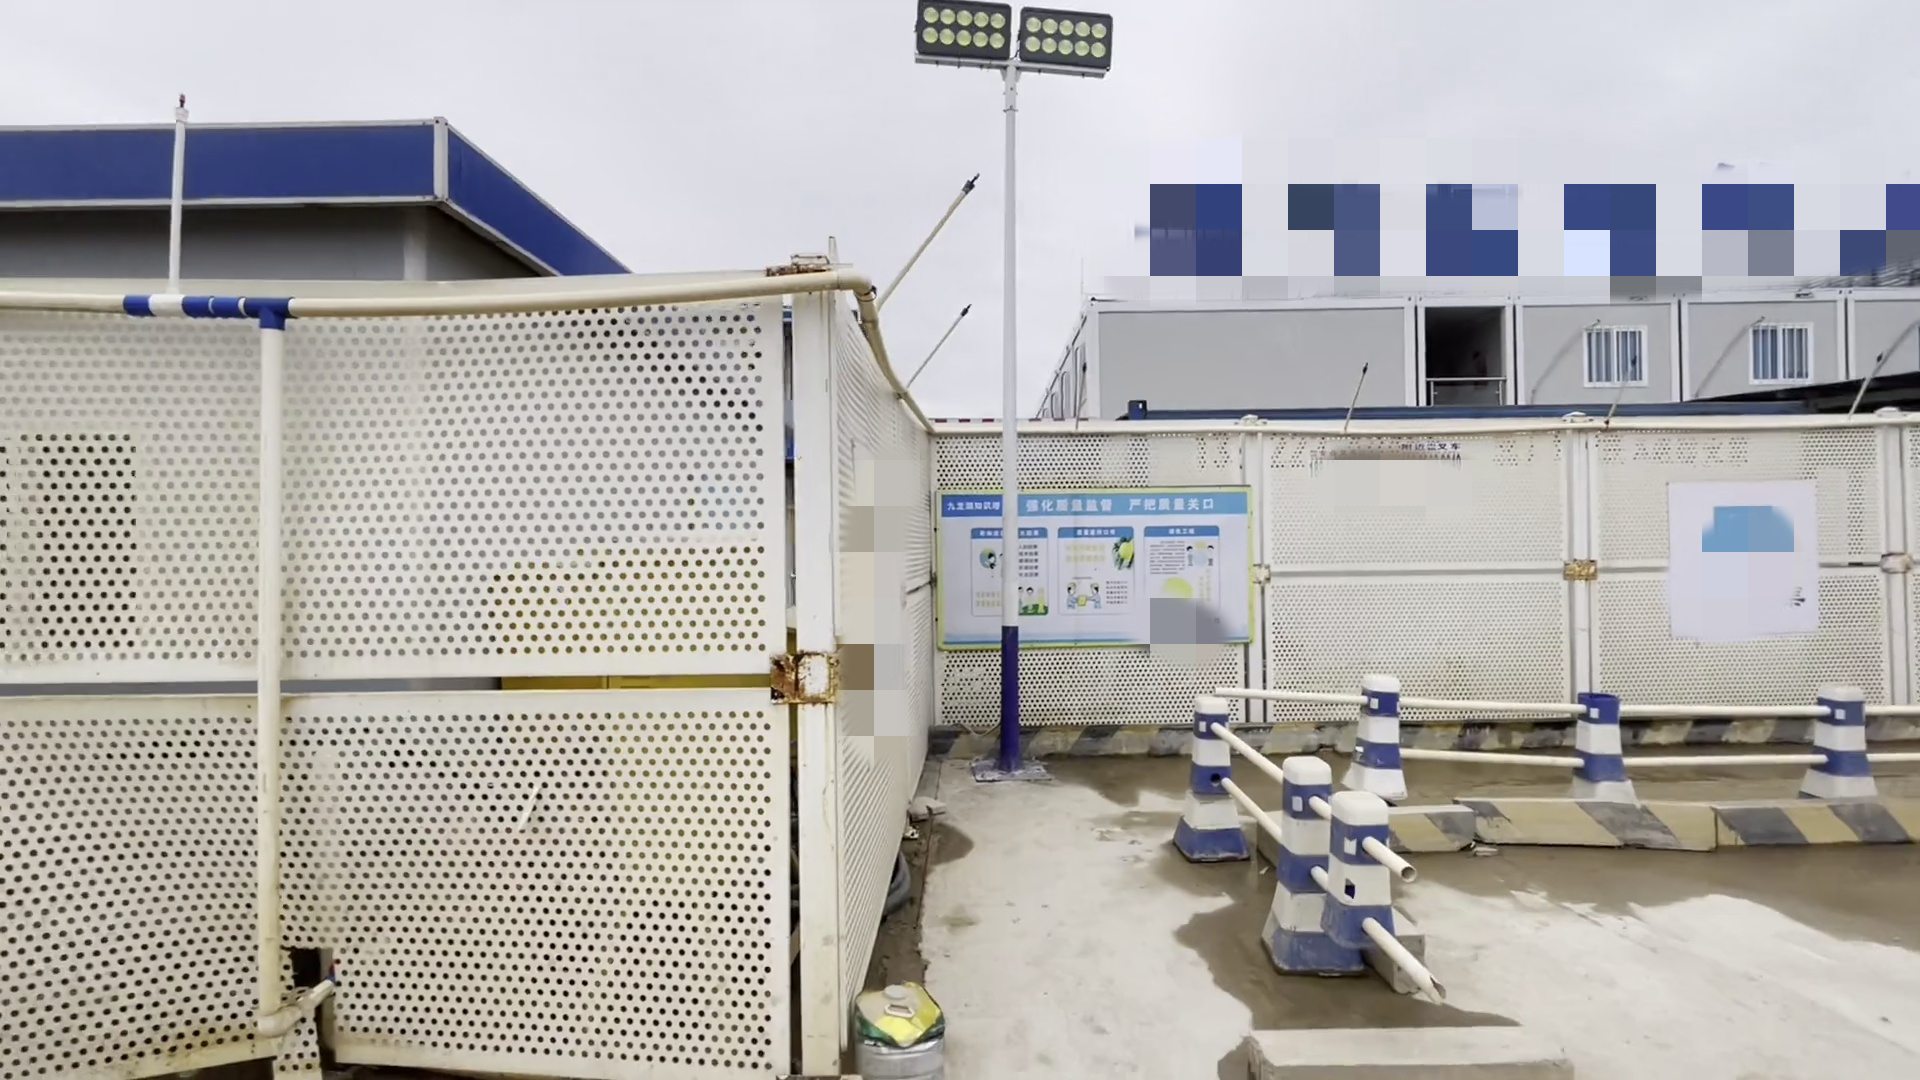slogan: (936, 483, 1255, 657)
